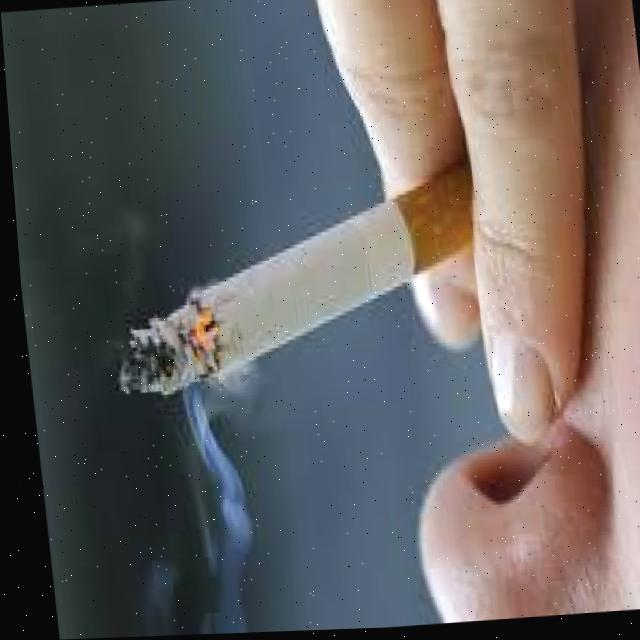cigarette: (117, 151, 473, 393)
